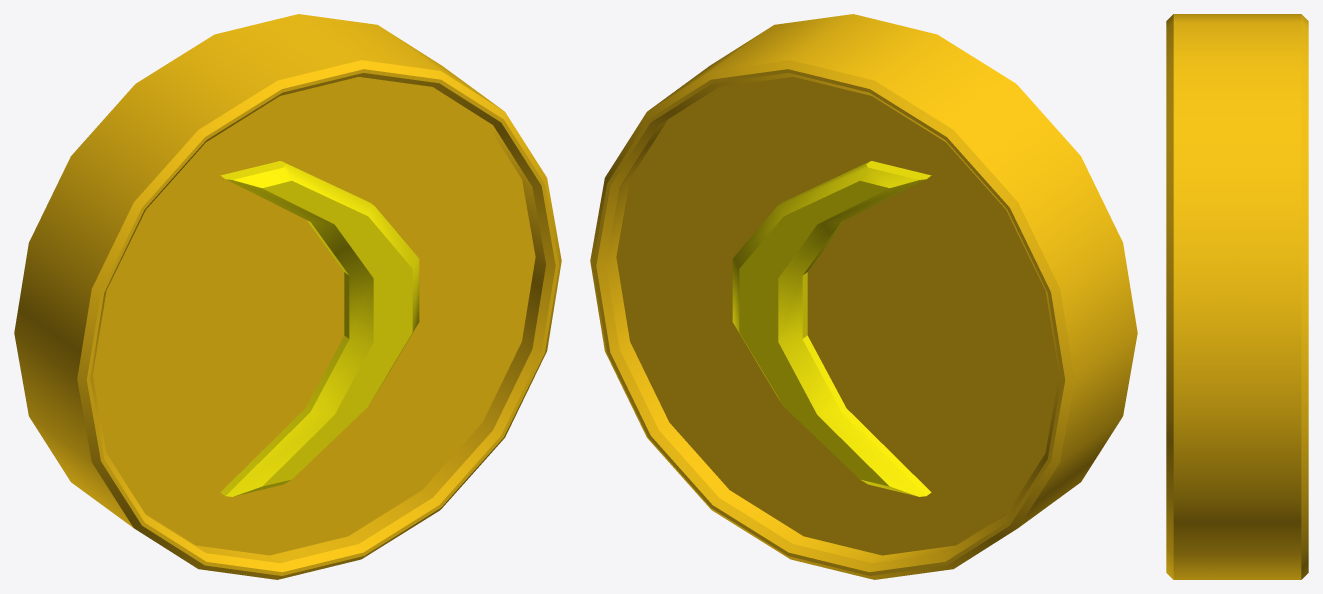
Rendered from CoinBanana.FBX.
The picture shows the model from 3 angles, left to right: view 1: azimuth 30°, elevation 25°; view 2: azimuth 150°, elevation 25°; view 3: azimuth 270°, elevation 25°; orthographic projection.
Visible parts, largest first — view 1: Coin, Banana; view 2: Coin, Banana; view 3: Coin.
Boxes of the visible parts, bbox=[...] form: Coin: bbox=[14, 14, 561, 579]; Banana: bbox=[220, 161, 419, 496]; Coin: bbox=[590, 14, 1137, 579]; Banana: bbox=[732, 161, 931, 496]; Coin: bbox=[1166, 14, 1308, 579].
Size of the model in its own units: 31.5 by 31.02 by 7.87.
2 materials, 2 textured.
